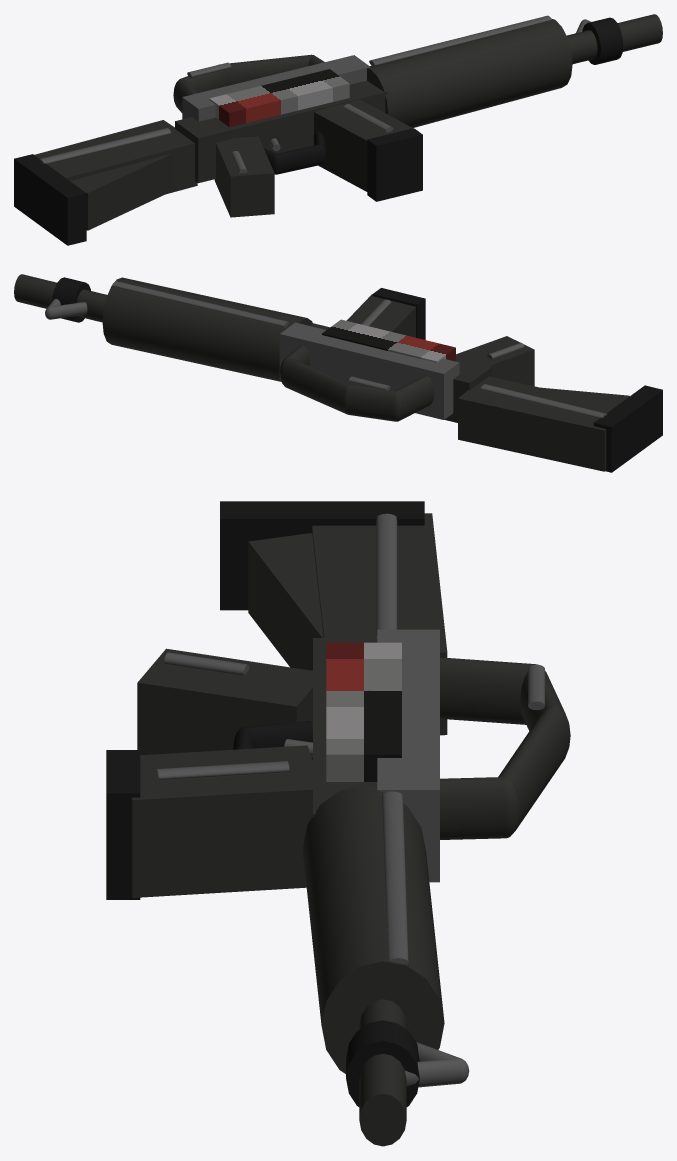
Rendered from CMU3DWorldAU14WeaponRifleM16A1Cloud.glb.
The picture shows the model from 3 angles, top to bottom: view 1: azimuth 30°, elevation 25°; view 2: azimuth 150°, elevation 25°; view 3: azimuth 270°, elevation 25°; orthographic projection. The views are drawn at different scales.
Parts seen in each view (by area): view 1: rounded handguard, receiver lower solid, tapered shoulder stock upper, rubber butt pad, source receiver face, sloping stock lower cheek, magazine shell, slanted pistol grip, magazine base shoe, upper receiver ridge, exterior barrel, carry handle open frame member 3 (+7 smaller); view 2: rounded handguard, tapered shoulder stock upper, upper receiver ridge, rubber butt pad, source receiver face, slanted pistol grip, carry handle open frame member 3, exterior barrel, magazine shell, carry handle open frame member 2, handguard upper ridge, receiver lower solid (+6 smaller); view 3: rounded handguard, magazine shell, slanted pistol grip, tapered shoulder stock upper, source receiver face, upper receiver ridge, rubber butt pad, sloping stock lower cheek, carry handle open frame member 1, exterior barrel, magazine base shoe, carry handle open frame member 4 (+9 smaller).
Part boxes in pixels (x1=…): rounded handguard: x1=367, y1=19, x2=572, y2=127; receiver lower solid: x1=175, y1=80, x2=387, y2=183; tapered shoulder stock upper: x1=34, y1=120, x2=197, y2=194; rubber butt pad: x1=14, y1=154, x2=86, y2=245; source receiver face: x1=209, y1=69, x2=349, y2=127; sloping stock lower cheek: x1=70, y1=153, x2=173, y2=230; magazine shell: x1=314, y1=99, x2=418, y2=191; slanted pistol grip: x1=214, y1=136, x2=274, y2=217; magazine base shoe: x1=367, y1=128, x2=422, y2=201; upper receiver ridge: x1=182, y1=55, x2=370, y2=121; exterior barrel: x1=567, y1=14, x2=662, y2=63; carry handle open frame member 3: x1=224, y1=55, x2=311, y2=86; rounded handguard: x1=102, y1=277, x2=312, y2=381; tapered shoulder stock upper: x1=458, y1=376, x2=617, y2=471; upper receiver ridge: x1=279, y1=322, x2=459, y2=419; rubber butt pad: x1=593, y1=385, x2=662, y2=472; source receiver face: x1=322, y1=319, x2=455, y2=362; slanted pistol grip: x1=456, y1=336, x2=534, y2=386; carry handle open frame member 3: x1=282, y1=357, x2=351, y2=414; exterior barrel: x1=14, y1=274, x2=107, y2=322; magazine shell: x1=346, y1=294, x2=415, y2=337; carry handle open frame member 2: x1=347, y1=384, x2=396, y2=421; handguard upper ridge: x1=112, y1=281, x2=289, y2=327; receiver lower solid: x1=310, y1=323, x2=491, y2=422; rounded handguard: x1=302, y1=785, x2=444, y2=1073; magazine shell: x1=131, y1=745, x2=312, y2=897; slanted pistol grip: x1=137, y1=648, x2=312, y2=760; tapered shoulder stock upper: x1=312, y1=513, x2=447, y2=735; source receiver face: x1=326, y1=642, x2=401, y2=781; upper receiver ridge: x1=377, y1=629, x2=439, y2=882; rubber butt pad: x1=220, y1=501, x2=424, y2=610; sloping stock lower cheek: x1=248, y1=533, x2=323, y2=670; carry handle open frame member 1: x1=440, y1=657, x2=535, y2=724; exterior barrel: x1=359, y1=999, x2=406, y2=1146; magazine base shoe: x1=106, y1=750, x2=140, y2=899; carry handle open frame member 4: x1=440, y1=777, x2=505, y2=839.
Bounding box in the file's own units: 1.15 × 0.119 × 0.3828.
Materials: 5 (1 with a texture image).
